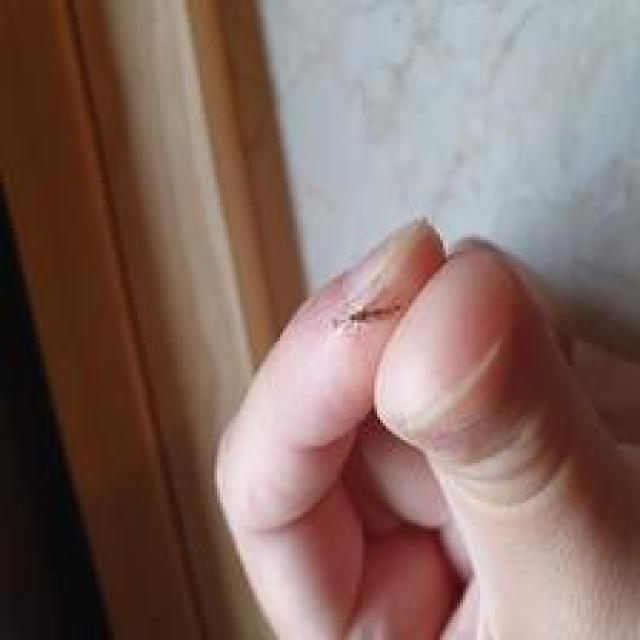Culex: (332, 298, 408, 333)
